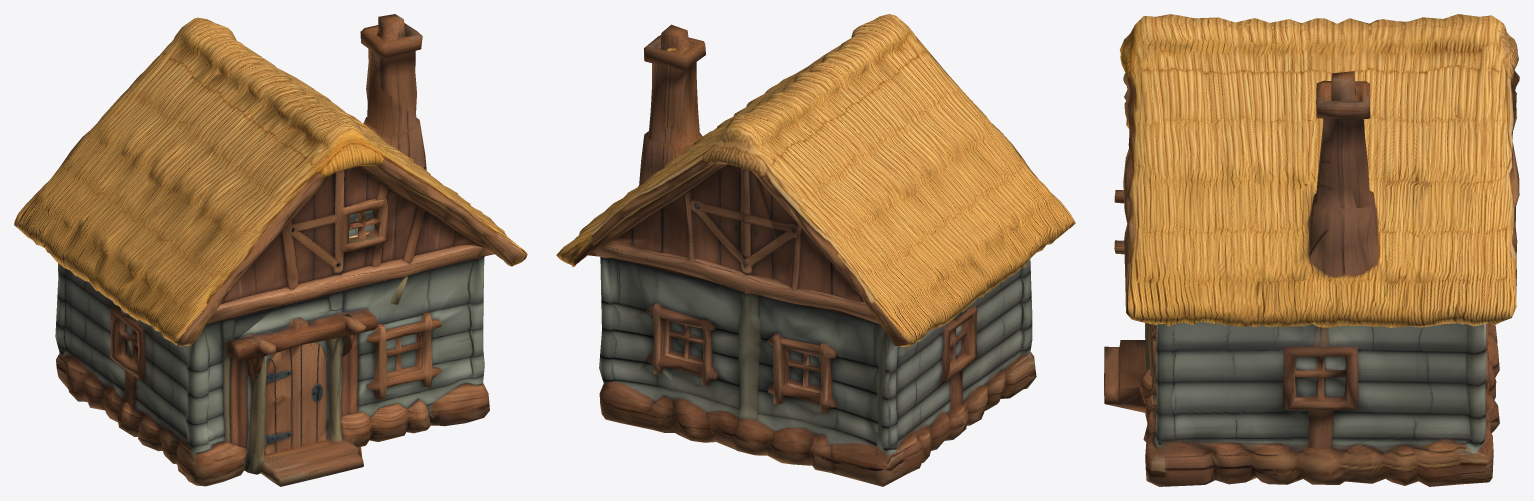
Rendered from house_small.glb.
3 renders of one model, left to right at view 1: azimuth 30°, elevation 25°; view 2: azimuth 150°, elevation 25°; view 3: azimuth 270°, elevation 25°, orthographic. The views are drawn at different scales.
Visible parts, largest first — view 1: Mesh_0; view 2: Mesh_0; view 3: Mesh_0.
Boxes of the visible parts, x1,y1,x2,y2 form: Mesh_0: [14, 14, 527, 486]; Mesh_0: [556, 14, 1075, 486]; Mesh_0: [1104, 14, 1519, 486].
Bounding box in the file's own units: 6.5 × 6 × 5.61.
1 material, 1 textured.
